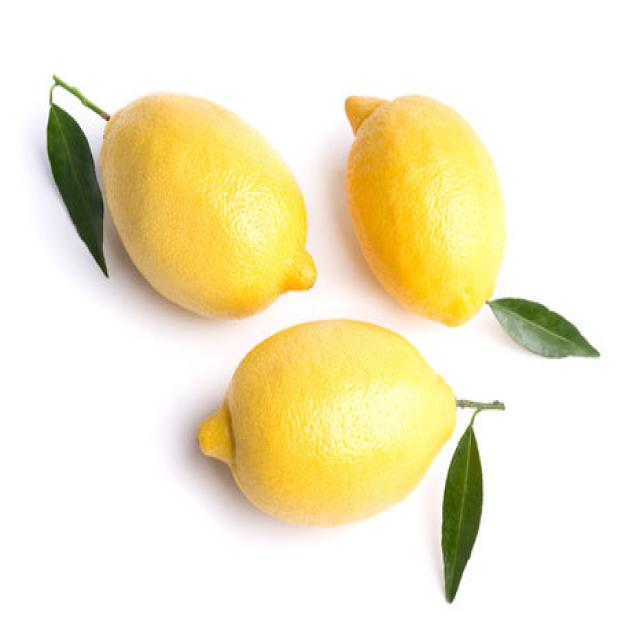Lemon: (197, 316, 458, 526), (99, 89, 316, 318), (344, 91, 506, 327)
